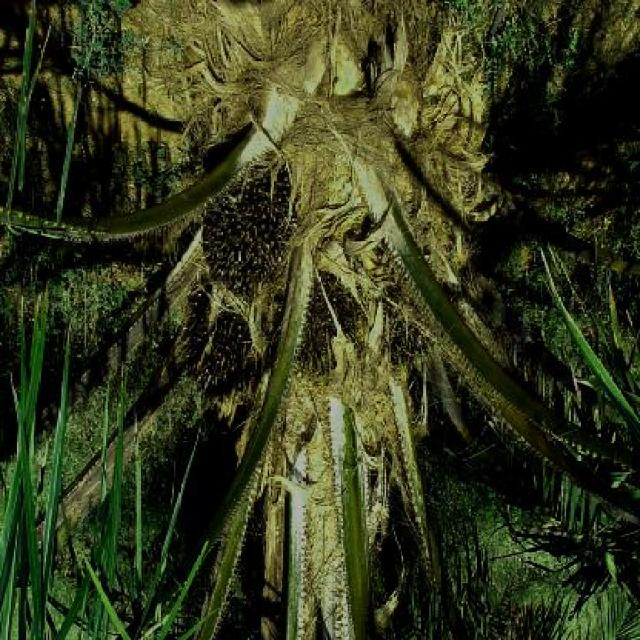palm-oil: (202, 169, 290, 302), (297, 271, 368, 376), (200, 286, 253, 384)
